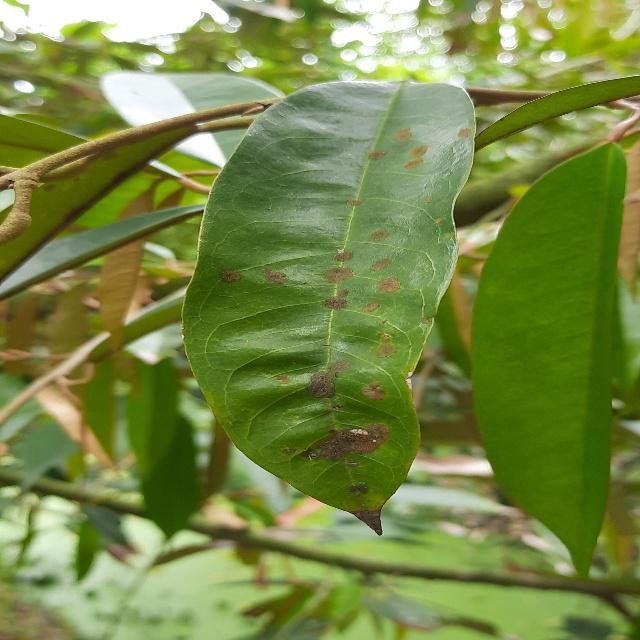Algal Leaf Spot: (171, 69, 482, 544)
